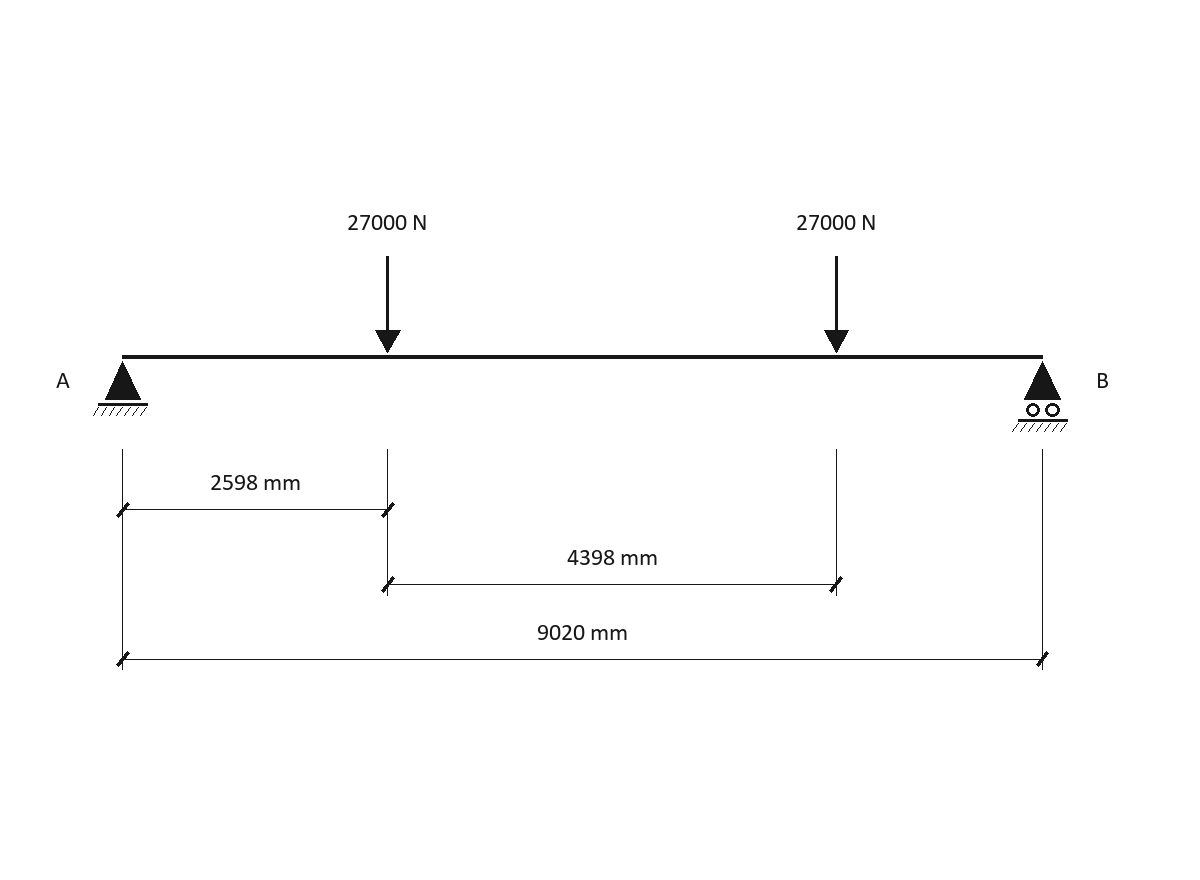pin_support: (93, 361, 148, 416)
point_load: (375, 256, 401, 353), (824, 256, 849, 353)
roller_support: (1012, 361, 1068, 432)
